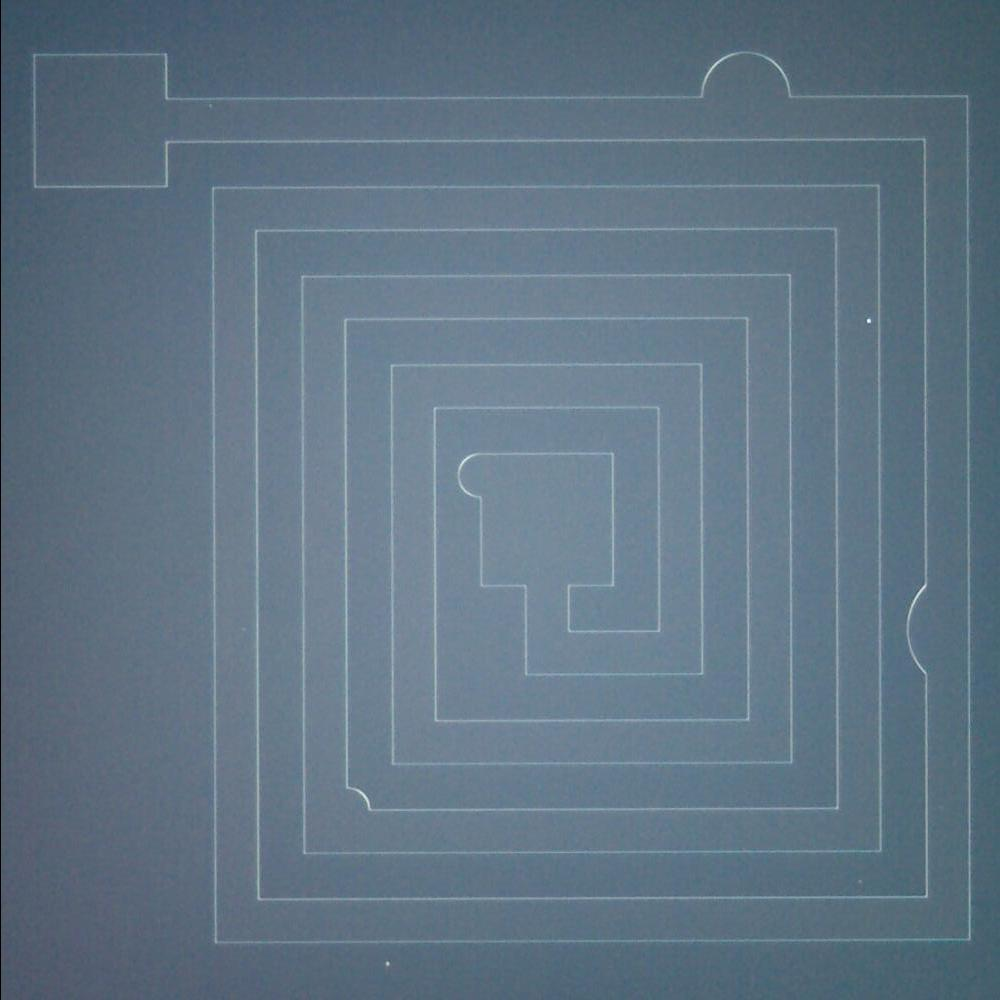curve circuit: (682, 35, 812, 112), (893, 574, 943, 684), (448, 446, 498, 509), (334, 772, 380, 817)
dot: (368, 949, 406, 979), (850, 306, 877, 334)
